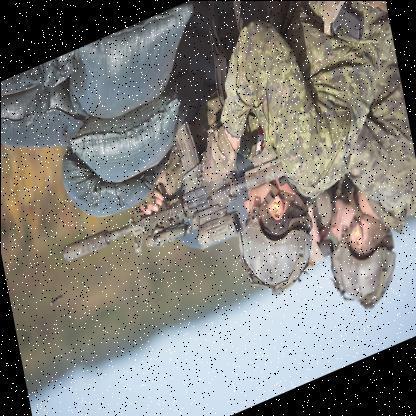rifle: (46, 90, 295, 304)
